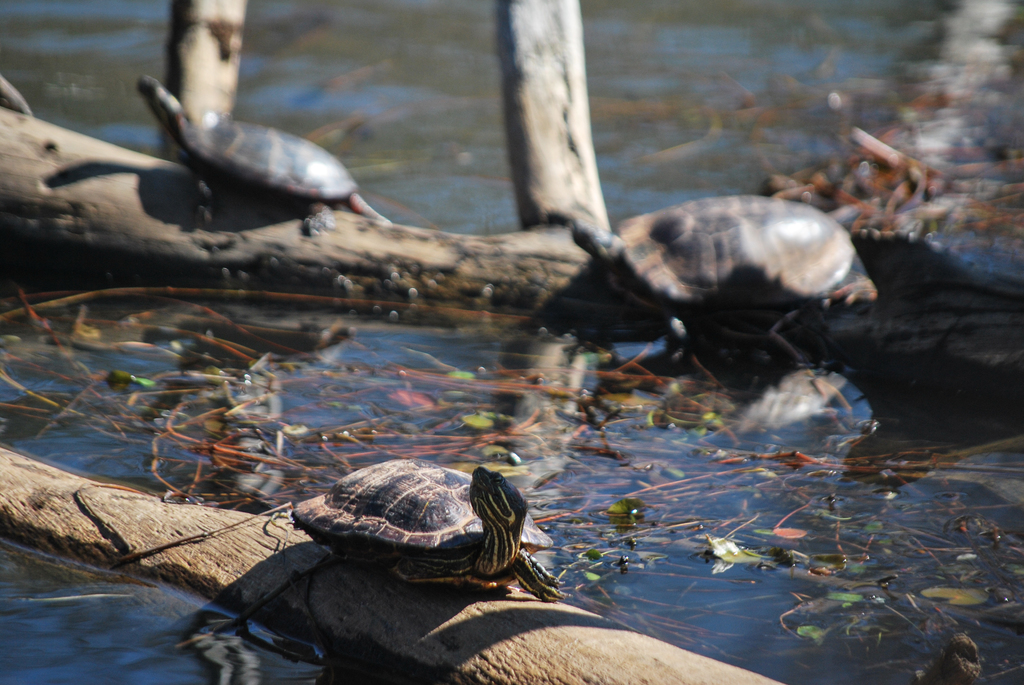Sea turtles: (566, 192, 897, 342), (136, 69, 389, 243), (282, 457, 562, 608)
